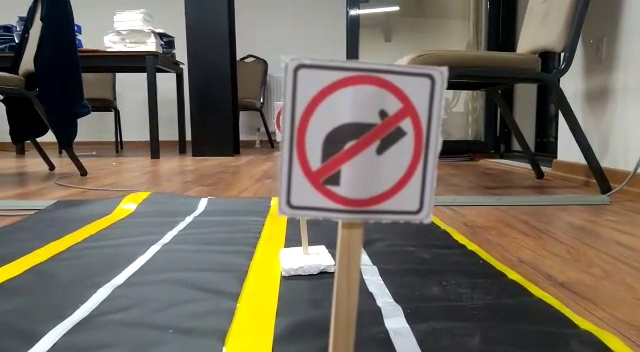saga_donulmez: (296, 68, 426, 210)
